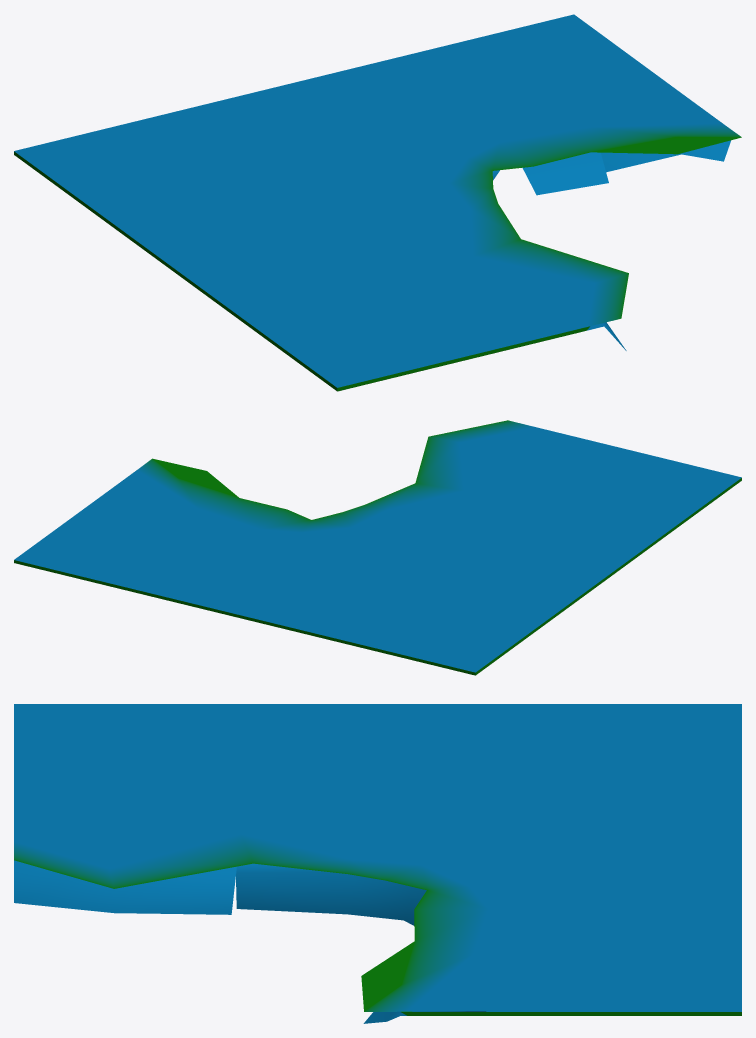
The model's file is DBK_Drywall_Ceiling_90_A.fbx.
The picture shows the model from 3 angles, top to bottom: view 1: azimuth 30°, elevation 25°; view 2: azimuth 150°, elevation 25°; view 3: azimuth 270°, elevation 25°; orthographic projection. The views are drawn at different scales.
Parts seen in each view (by area): view 1: DBK_Drywall_Ceiling_90_A; view 2: DBK_Drywall_Ceiling_90_A; view 3: DBK_Drywall_Ceiling_90_A.
Boxes of the visible parts, x1=… form: DBK_Drywall_Ceiling_90_A: x1=14, y1=14, x2=741, y2=391; DBK_Drywall_Ceiling_90_A: x1=14, y1=420, x2=741, y2=675; DBK_Drywall_Ceiling_90_A: x1=14, y1=704, x2=741, y2=1023.
Size of what is drawn, in the model's own units: 300 by 25.62 by 300.
